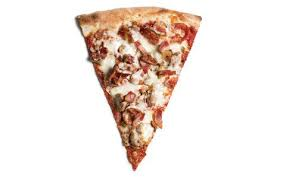pizza: (75, 6, 207, 172)
